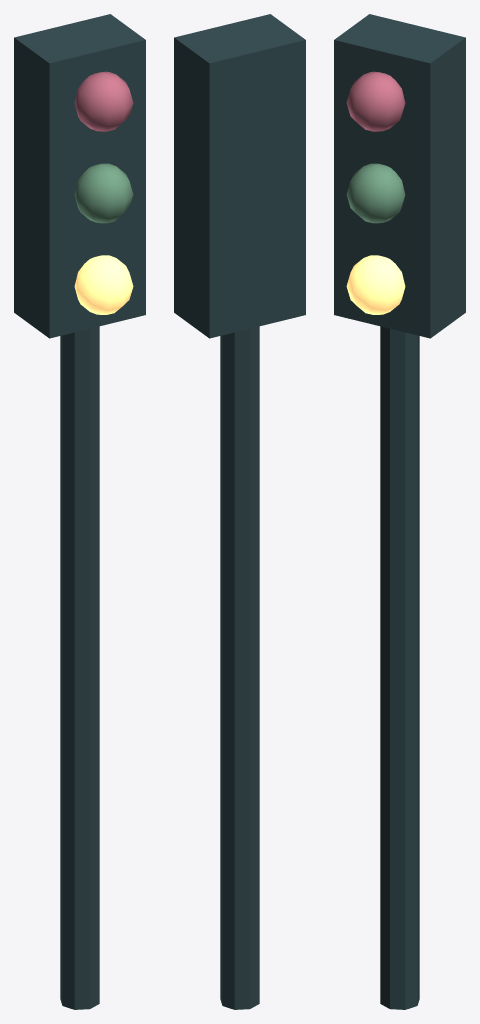
The model's file is traffic-light.glb.
The picture shows the model from 3 angles, left to right: view 1: azimuth 30°, elevation 25°; view 2: azimuth 210°, elevation 25°; view 3: azimuth 330°, elevation 25°; orthographic projection.
Parts seen in each view (by area): view 1: traffic-light; view 2: traffic-light; view 3: traffic-light.
Boxes of the visible parts, box(x1,y1,x2,y2) form: traffic-light: box(14, 14, 145, 1009); traffic-light: box(174, 14, 305, 1009); traffic-light: box(334, 14, 465, 1009).
Bounding box in the file's own units: 0.55 × 5.25 × 0.5477.
